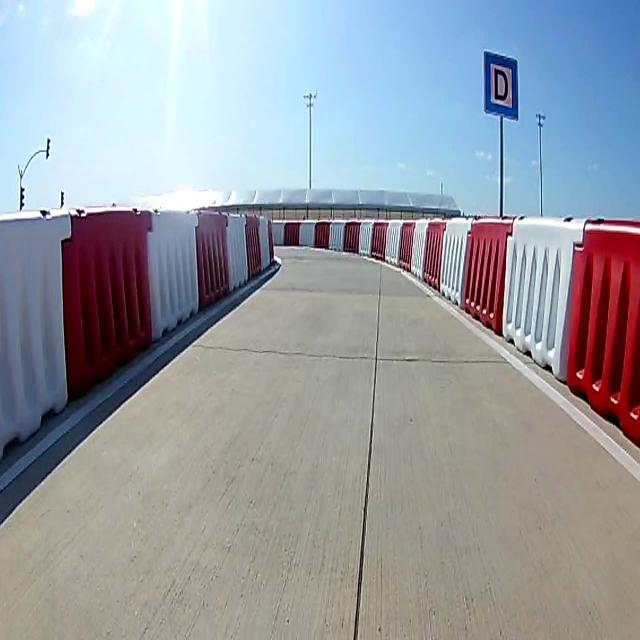durak: (483, 51, 518, 121)
